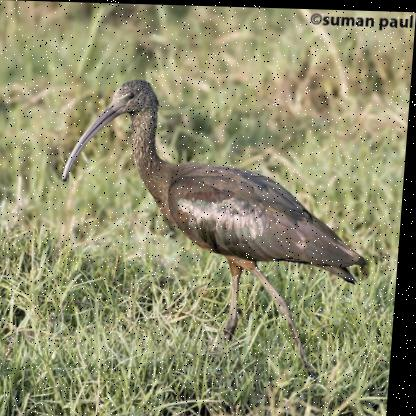Burung: (52, 78, 380, 390)
